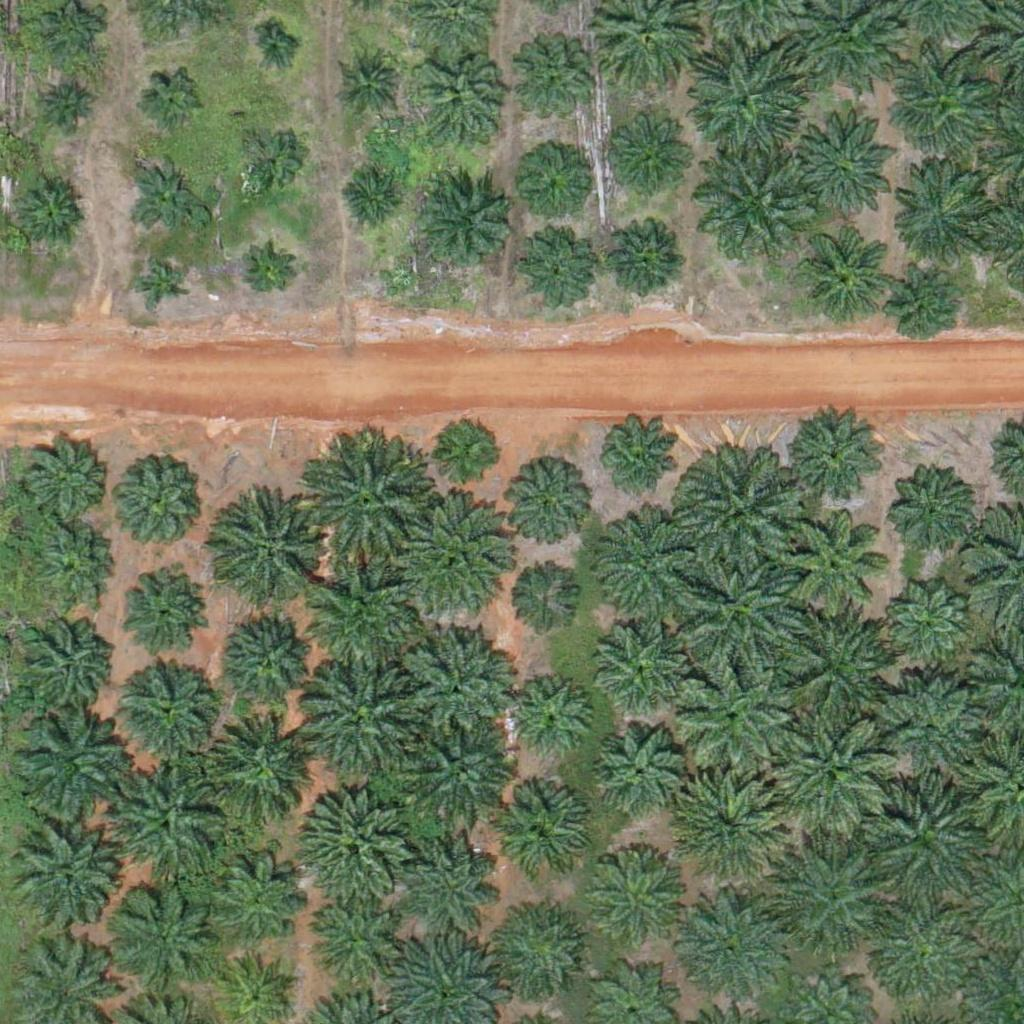Kelapa_Sawit: (776, 710, 901, 836), (675, 450, 800, 576), (305, 445, 430, 571), (679, 544, 804, 669), (669, 772, 782, 886), (405, 500, 518, 614), (201, 713, 314, 827), (865, 781, 978, 894), (779, 843, 892, 956), (680, 657, 793, 770), (594, 505, 707, 618), (308, 563, 421, 676), (299, 664, 412, 777), (296, 784, 409, 897), (194, 844, 307, 957), (886, 40, 999, 153), (696, 142, 809, 255), (106, 878, 218, 992), (12, 710, 124, 824), (864, 897, 976, 1010), (781, 610, 893, 723), (671, 895, 783, 1008), (405, 715, 517, 828), (400, 628, 512, 741), (111, 769, 223, 882), (788, 118, 900, 231), (687, 42, 799, 155), (881, 676, 981, 777), (788, 519, 888, 620), (786, 408, 886, 509), (403, 822, 503, 923), (223, 606, 323, 707), (107, 450, 207, 551), (892, 160, 992, 261), (412, 173, 512, 274), (492, 784, 592, 884), (218, 504, 318, 604), (120, 660, 220, 760), (11, 829, 111, 929), (16, 613, 116, 713), (502, 462, 590, 551), (593, 620, 681, 708), (503, 674, 591, 762), (302, 898, 390, 986), (114, 566, 202, 654), (796, 230, 884, 318), (415, 58, 503, 146), (594, 416, 681, 504), (596, 850, 683, 938), (595, 724, 682, 812), (497, 905, 584, 993), (34, 521, 121, 609), (22, 438, 109, 526), (601, 111, 688, 199), (504, 567, 579, 643), (894, 473, 969, 549), (892, 590, 967, 666), (609, 227, 684, 303), (517, 49, 592, 125), (520, 231, 595, 307), (12, 175, 87, 250), (128, 157, 203, 232), (517, 154, 580, 217), (341, 172, 404, 235), (438, 419, 501, 482), (236, 127, 299, 190), (891, 271, 954, 334), (144, 69, 206, 132), (242, 249, 292, 300), (46, 78, 96, 129), (135, 258, 185, 309), (344, 57, 394, 107), (257, 30, 294, 68)
